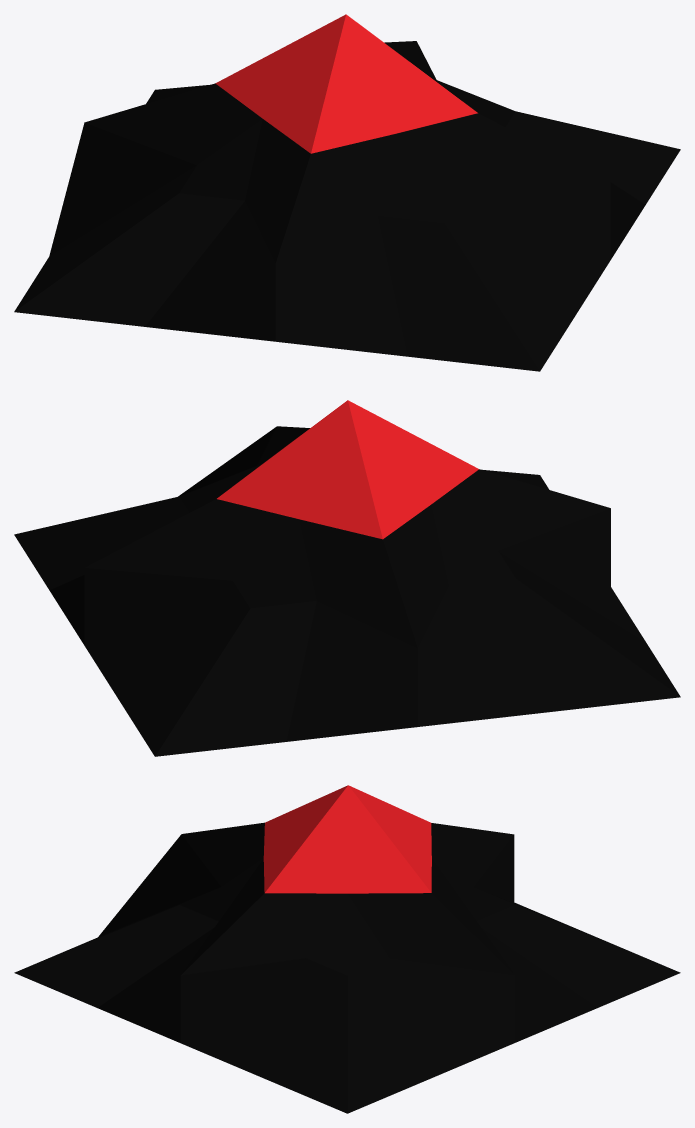
The model's file is LandMine.fbx.
The picture shows the model from 3 angles, top to bottom: view 1: azimuth 30°, elevation 25°; view 2: azimuth 150°, elevation 25°; view 3: azimuth 270°, elevation 25°; orthographic projection. The views are drawn at different scales.
Visible parts, largest first — view 1: Land Mine; view 2: Land Mine; view 3: Land Mine.
Boxes of the visible parts, x1,y1,x2,y2 form: Land Mine: (14,14,680,371); Land Mine: (14,400,680,756); Land Mine: (14,785,680,1113).
Size of the model in its own units: 73.63 by 22.82 by 73.63.
